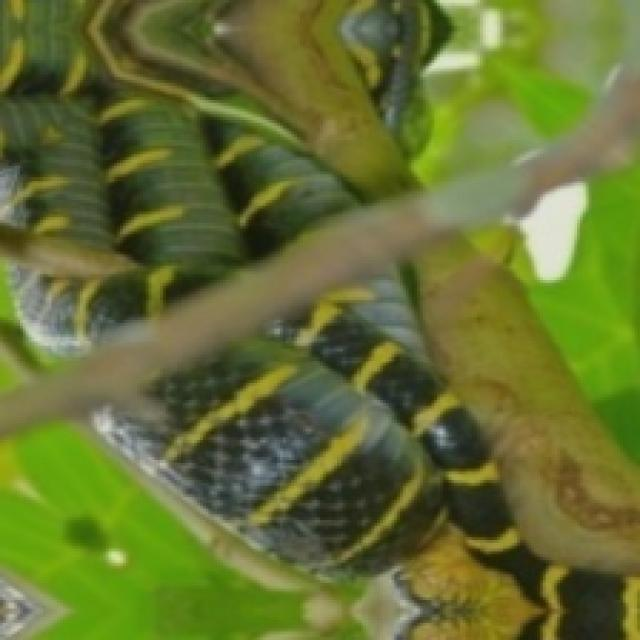mangrove cat snake: (95, 271, 640, 640), (0, 0, 361, 353), (339, 0, 449, 138)
